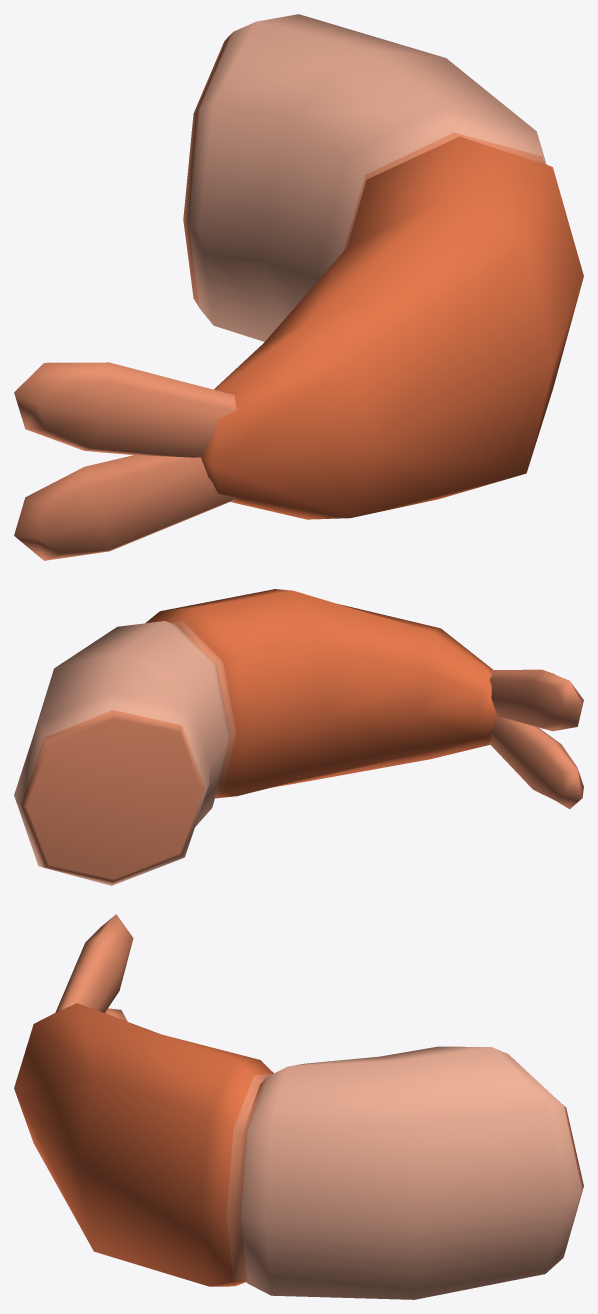
The model's file is Shrimp_1_Peeled_2_Half_1.fbx.
3 views of the same model, one above another, from view 1: azimuth 30°, elevation 25°; view 2: azimuth 150°, elevation 25°; view 3: azimuth 270°, elevation 25° (orthographic). The views are drawn at different scales.
Parts seen in each view (by area): view 1: Shrimp_1_Peeled_2_Half_1; view 2: Shrimp_1_Peeled_2_Half_1; view 3: Shrimp_1_Peeled_2_Half_1.
Boxes of the visible parts, left/top/right/bottom form: Shrimp_1_Peeled_2_Half_1: left=14, top=14, right=583, bottom=560; Shrimp_1_Peeled_2_Half_1: left=14, top=589, right=583, bottom=885; Shrimp_1_Peeled_2_Half_1: left=14, top=914, right=583, bottom=1299.
Size of the model in its own units: 8.8 by 3.95 by 8.72.
